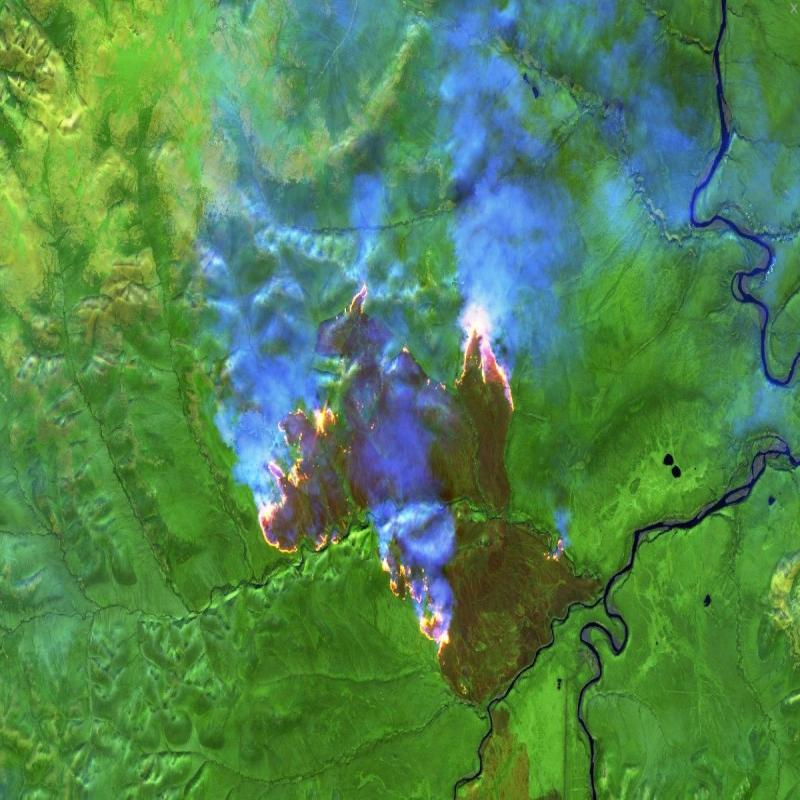fire: (243, 276, 573, 666)
